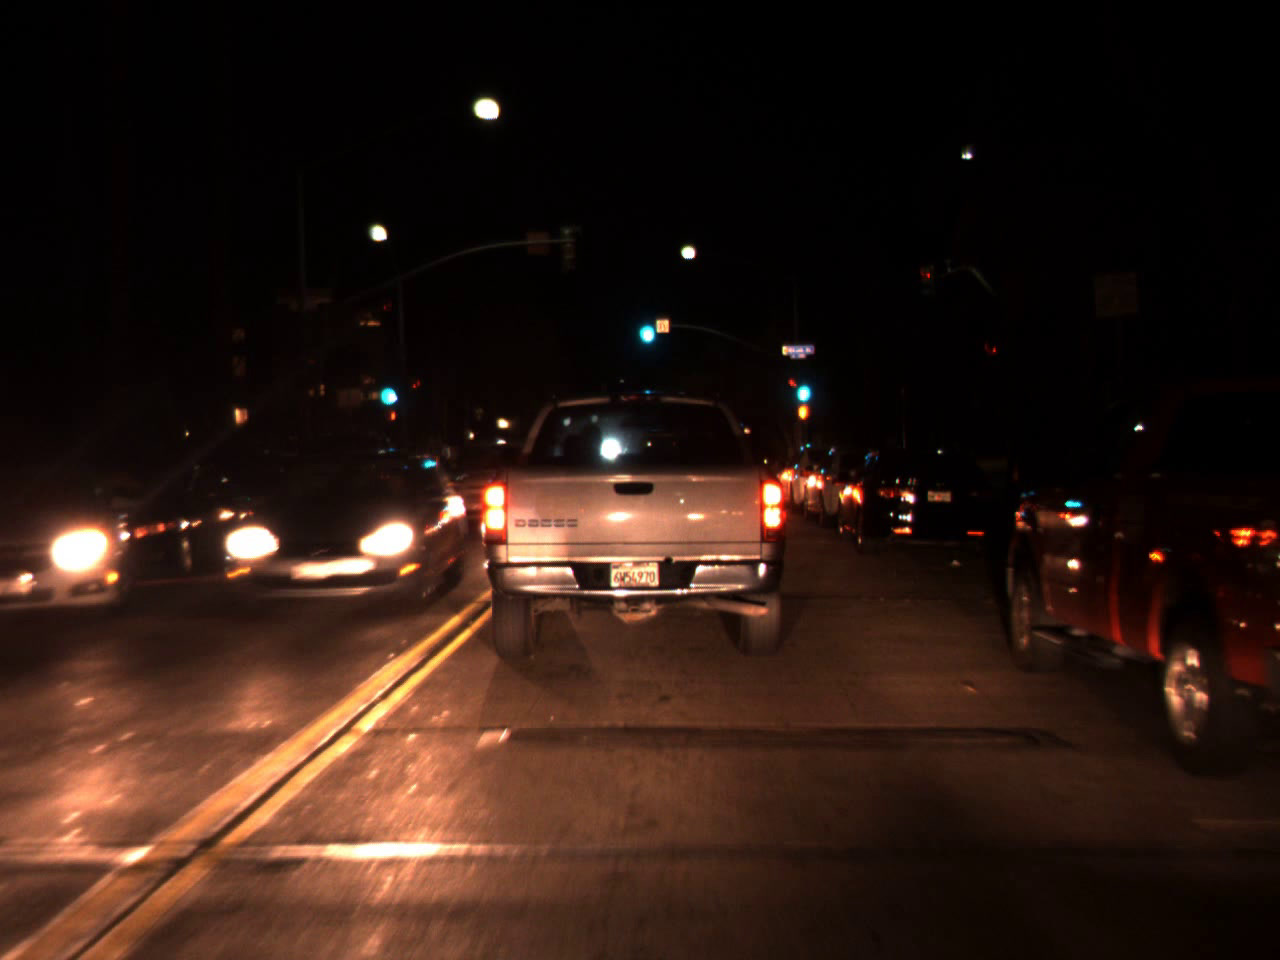go: (633, 302, 658, 350), (375, 366, 398, 411), (792, 365, 813, 407)
